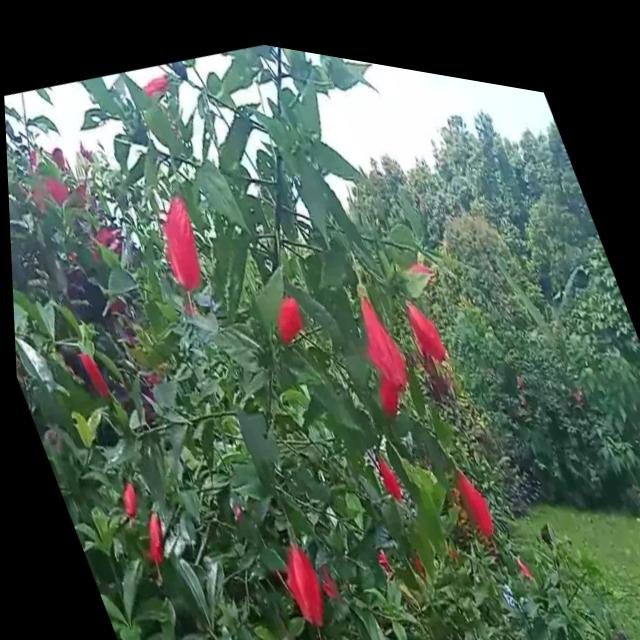Flower: (142, 176, 219, 299), (342, 261, 412, 383), (263, 512, 333, 628), (443, 438, 497, 529), (398, 274, 448, 353), (74, 339, 115, 409), (130, 498, 171, 559), (368, 438, 403, 491), (137, 57, 178, 102)
